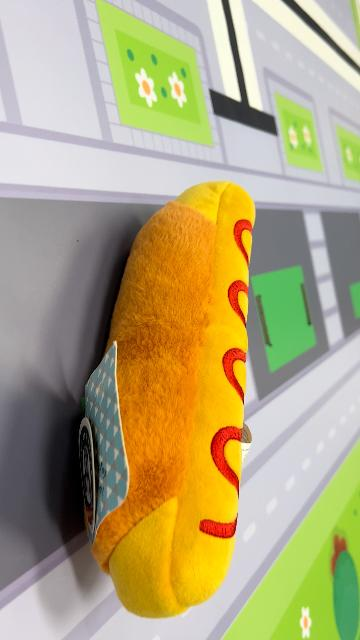hotdog: (77, 180, 258, 620)
